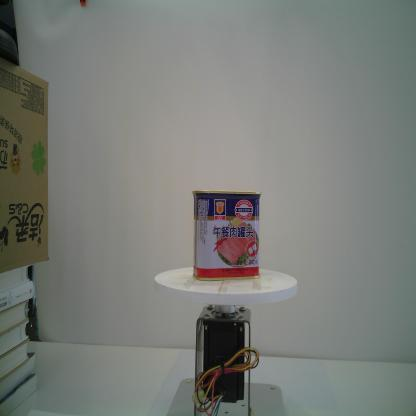Canned Food: (192, 190, 262, 282)
